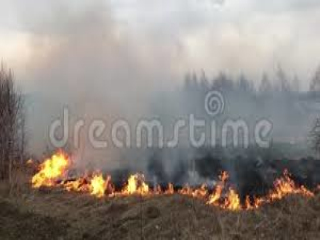fire: (27, 149, 314, 206)
smoke: (18, 15, 305, 149)
